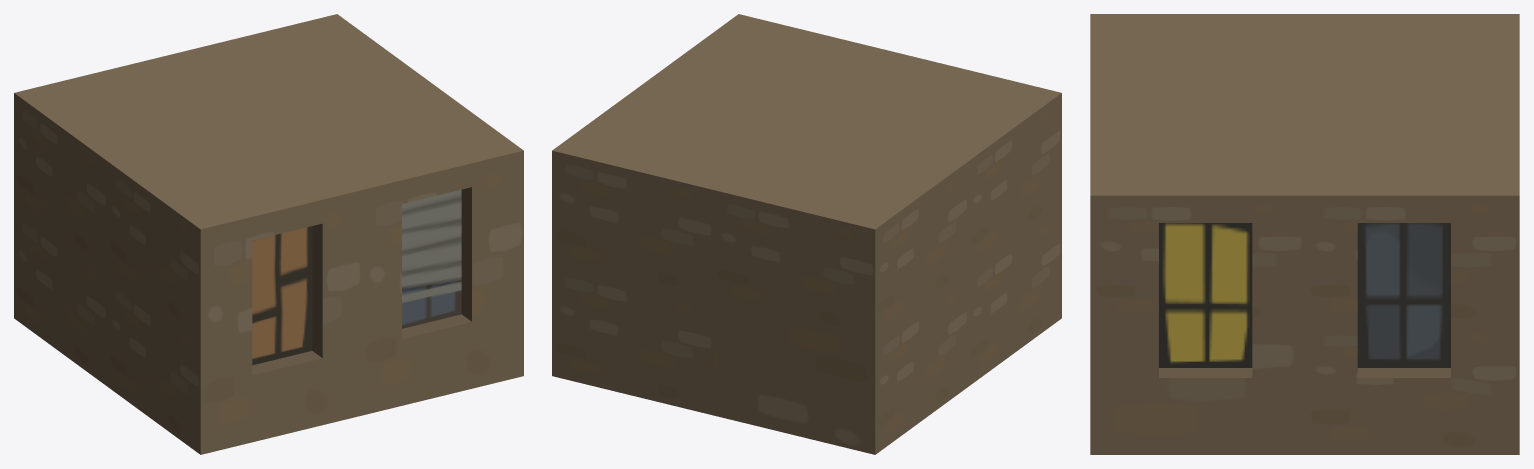
Rendered from Bock_D3.fbx.
3 views of the same model, side by side, from view 1: azimuth 30°, elevation 25°; view 2: azimuth 150°, elevation 25°; view 3: azimuth 270°, elevation 25° (orthographic). The views are drawn at different scales.
Visible parts, largest first — view 1: Bock_D3; view 2: Bock_D3; view 3: Bock_D3.
Part boxes in pixels (bbox=[...]): Bock_D3: bbox=[14, 14, 523, 454]; Bock_D3: bbox=[552, 14, 1061, 454]; Bock_D3: bbox=[1090, 14, 1519, 454].
Bounding box in the file's own units: 600 × 400 × 600.
